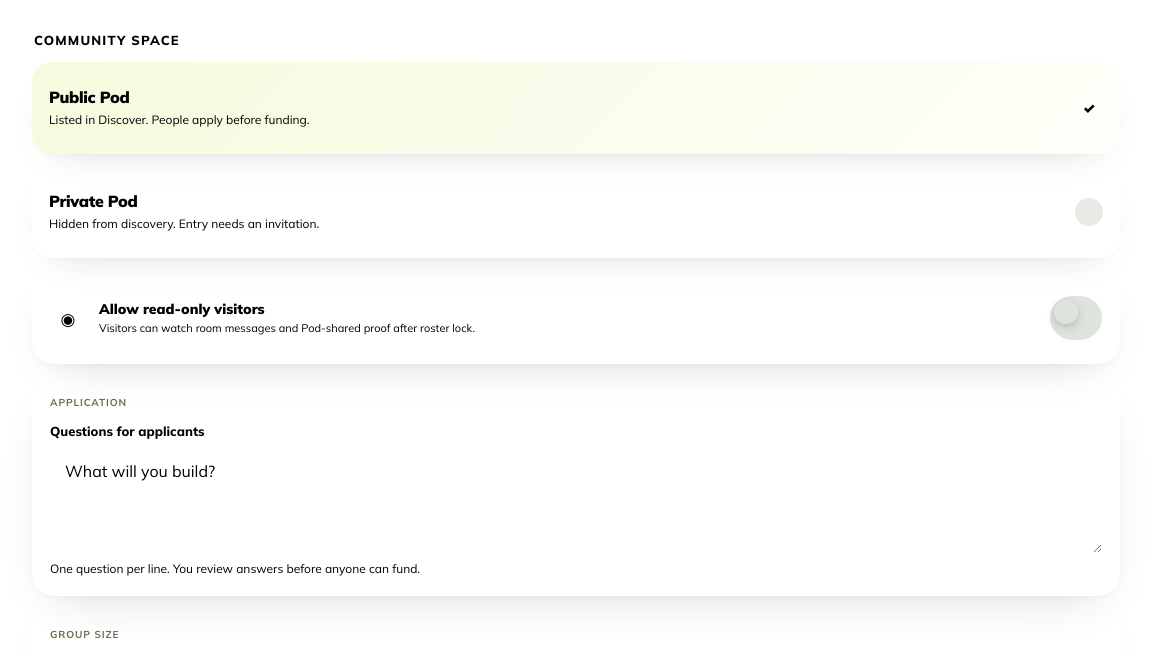
Test case: CommunityForm room audience › uses clear access choices and a conventional public visitor switch
Expected: the radio button labelled "Public Pod" is checked, [32,62,1120,154]
Expected: the radio button labelled "Private Pod" is not checked, [32,166,1120,258]
Click the switch named "Allow read-only visitors". click: click(1076, 318)
box: [1050,296,1102,340]
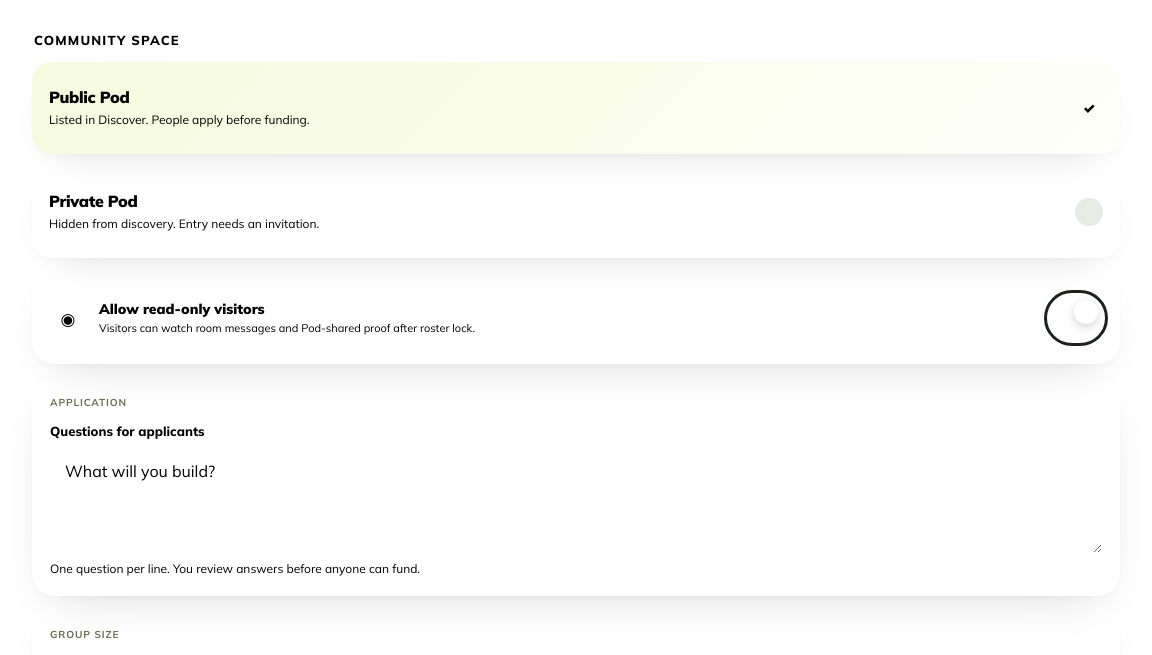
Expected: the switch named "Allow read-only visitors" is checked, [1050,296,1102,340]
Replace the text in the text box labelled "Questions for applicants" with "What will you ship this week?". click: (576, 500)
box: [50,447,1102,553]
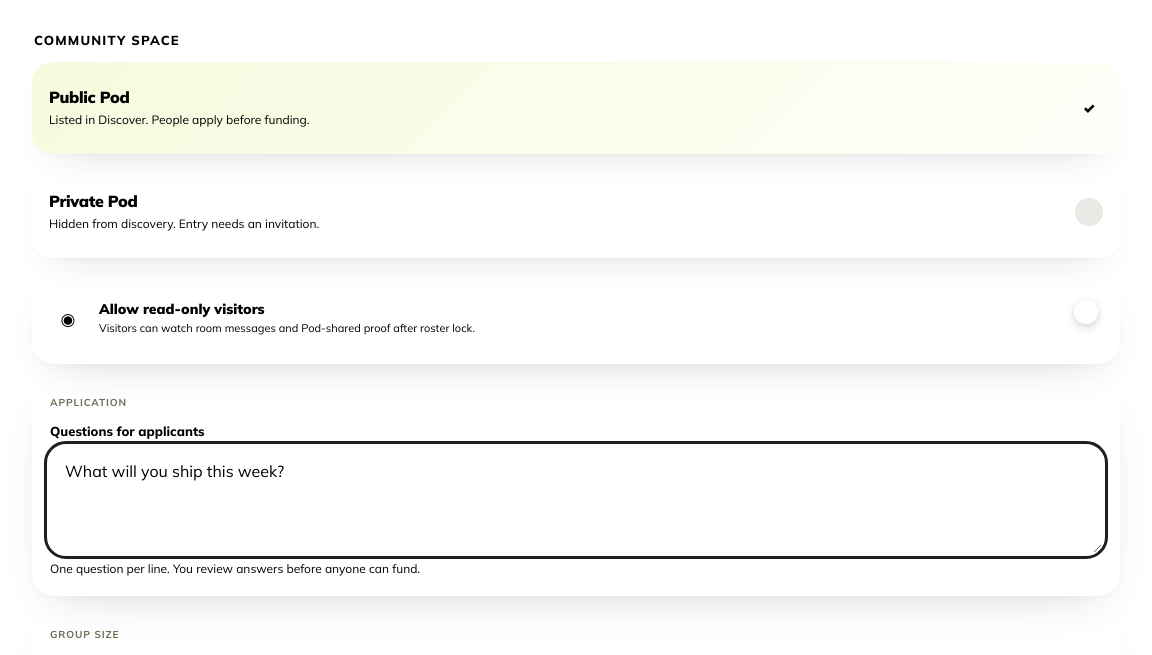
Click the radio button labelled "Private Pod". click: click(93, 201)
box: [32,166,1120,258]
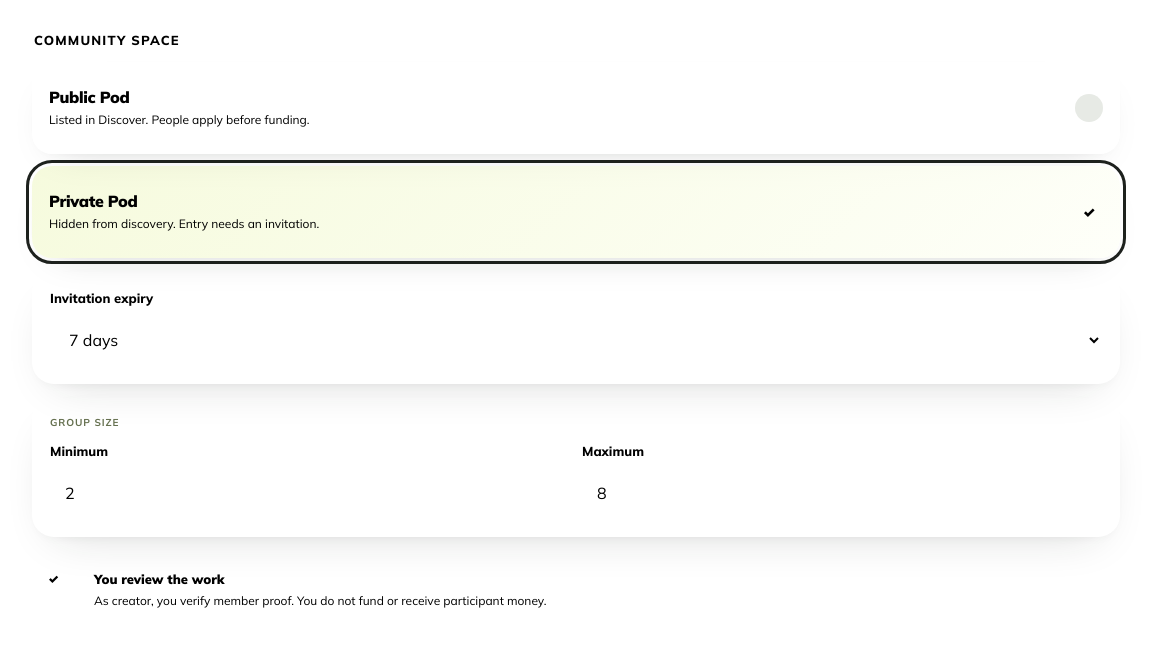
Expected: the text "Allow read-only visitors" is gone
Select "3 days" in the dropdown labelled "Invitation expiry". click: (576, 340)
box: [50,314,1102,366]
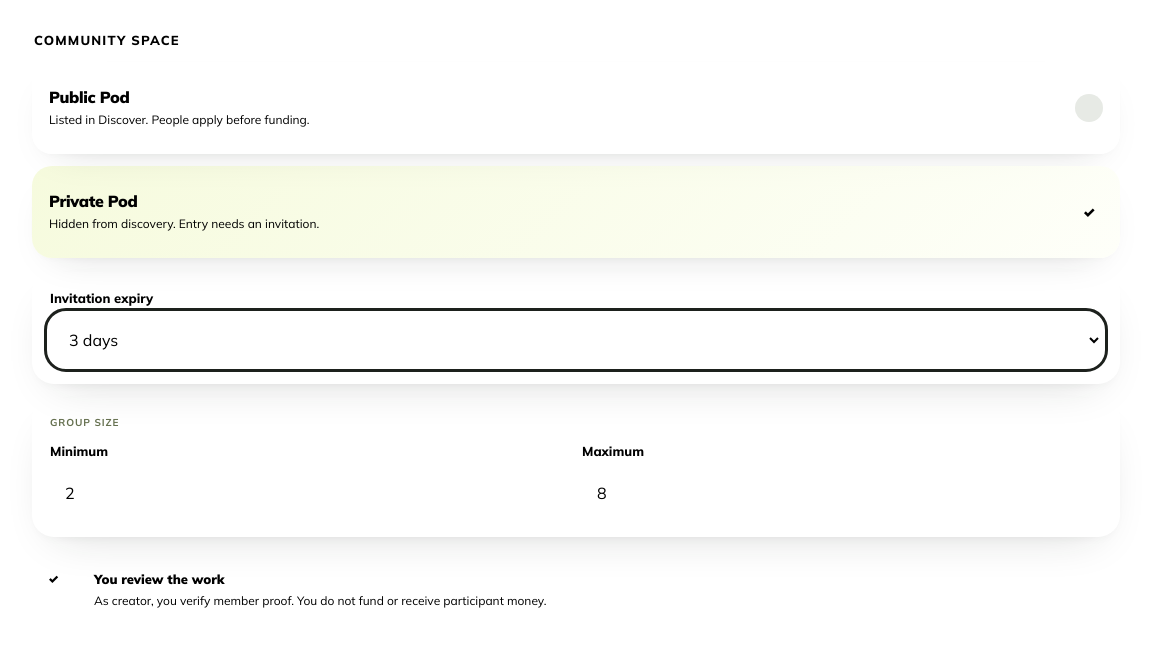
Click the radio button labelled "Public Pod Listed in Discover. People apply before funding.". click: click(89, 97)
box: [32,62,1120,154]
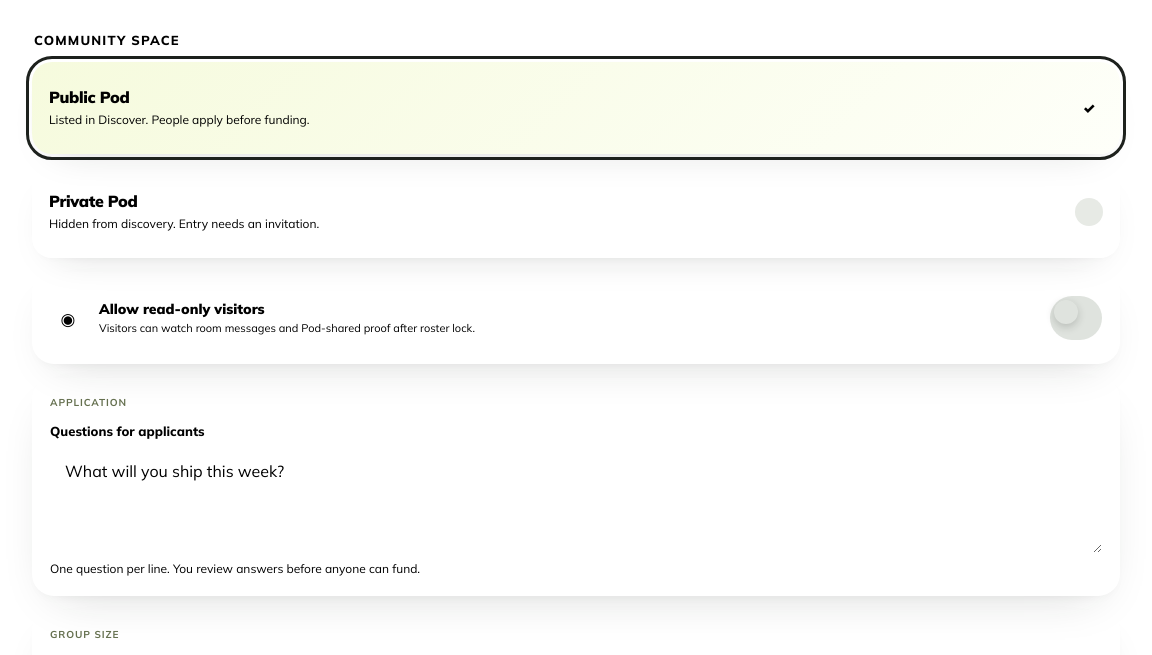
Expected: the text box labelled "Questions for applicants" holds "What will you ship this week?", [50,447,1102,553]
Click the radio button labelled "Private Pod". click: click(93, 201)
box: [32,166,1120,258]
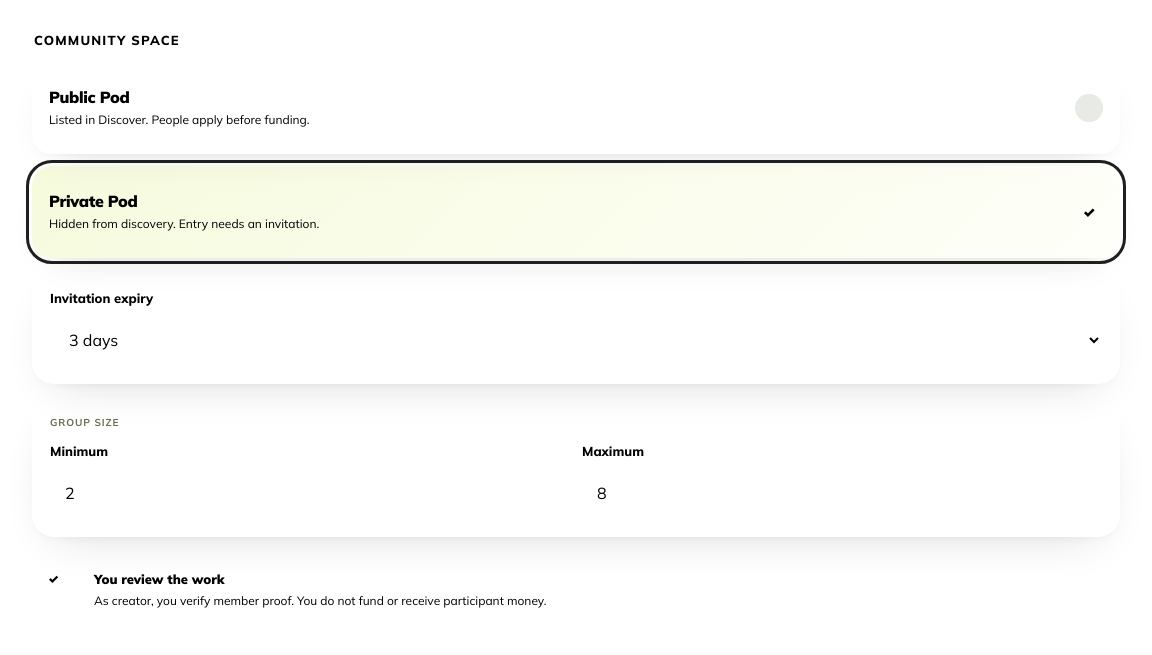
Expected: the text "You review the work" is shown, [94,571,224,587]
Expected: the dropdown labelled "Invitation expiry" shows "3 days", [50,314,1102,366]
